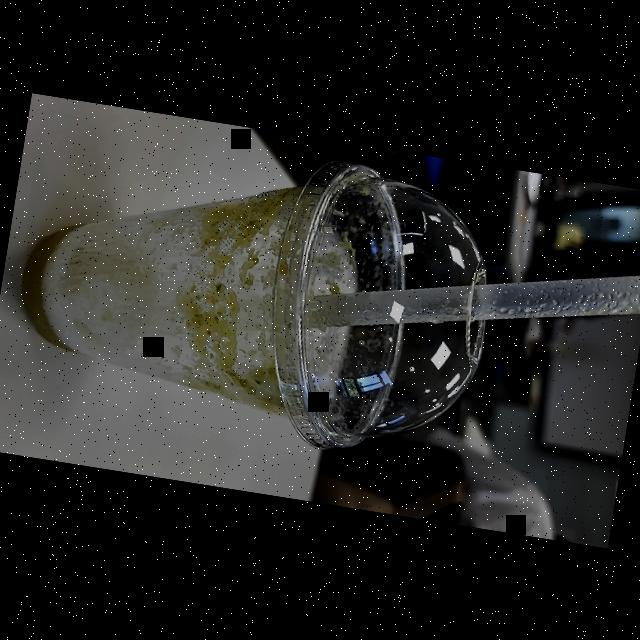plastic_cup: (0, 109, 513, 478)
plastic_cup_lid: (258, 152, 510, 472)
straw: (265, 216, 640, 391)
